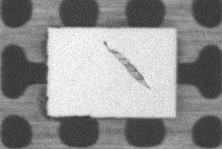DIE_INK: (143, 23, 222, 63)
